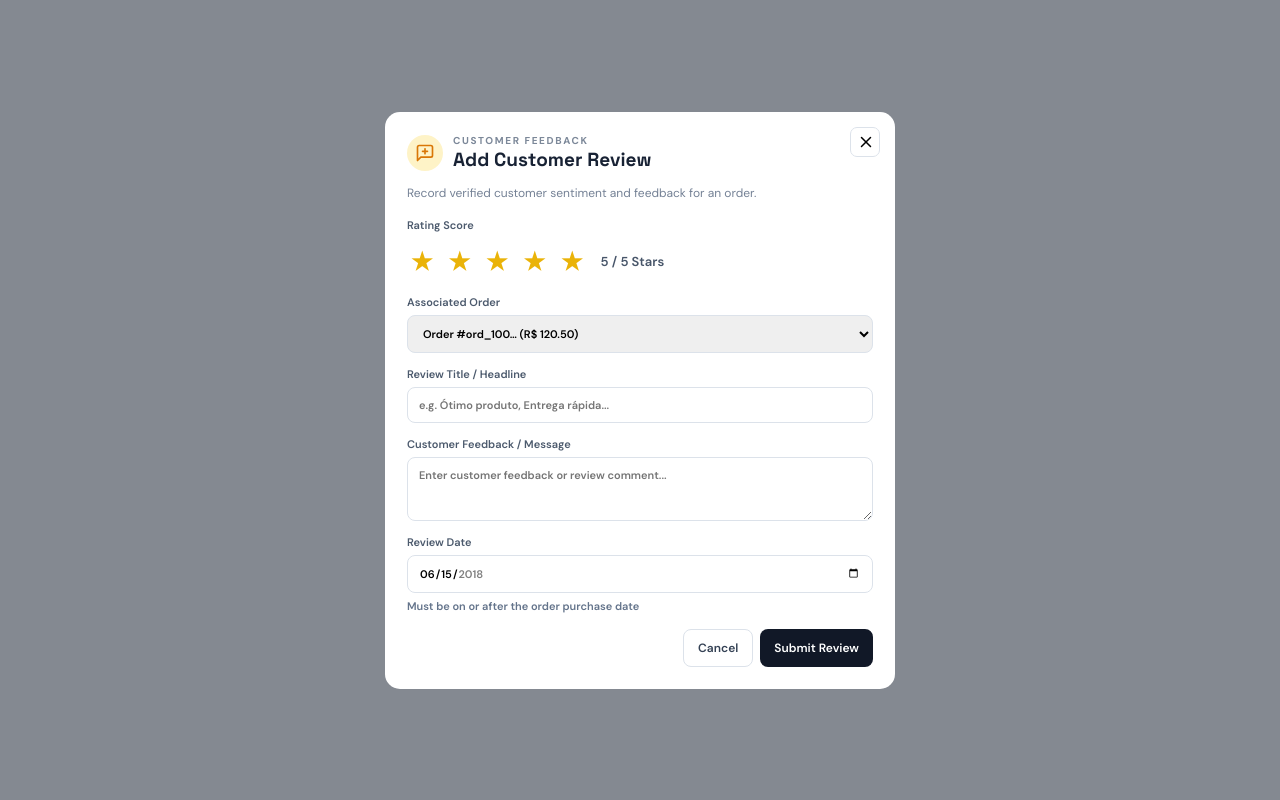
Test case: ReviewModal Component › validates review date cannot be earlier than order purchase date
The image size is (1280, 800).
ord_100 purchase date is 2018-06-10. Set review date to 2018-06-01
Type "2018-06-01" into the date field labelled "Review Date Must be on or after the order purchase date". click: (640, 574)
box: [407,554,873,592]
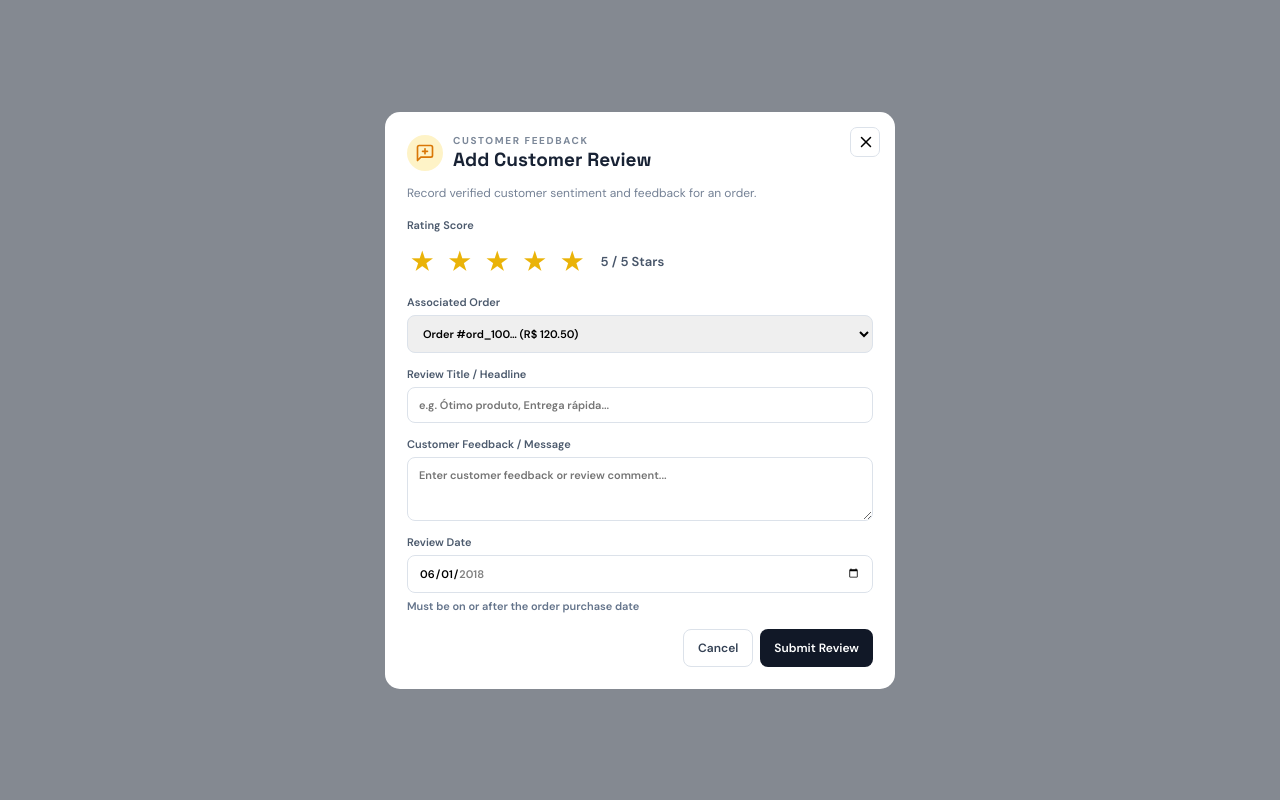
Submit the form, box [385,112,895,688]
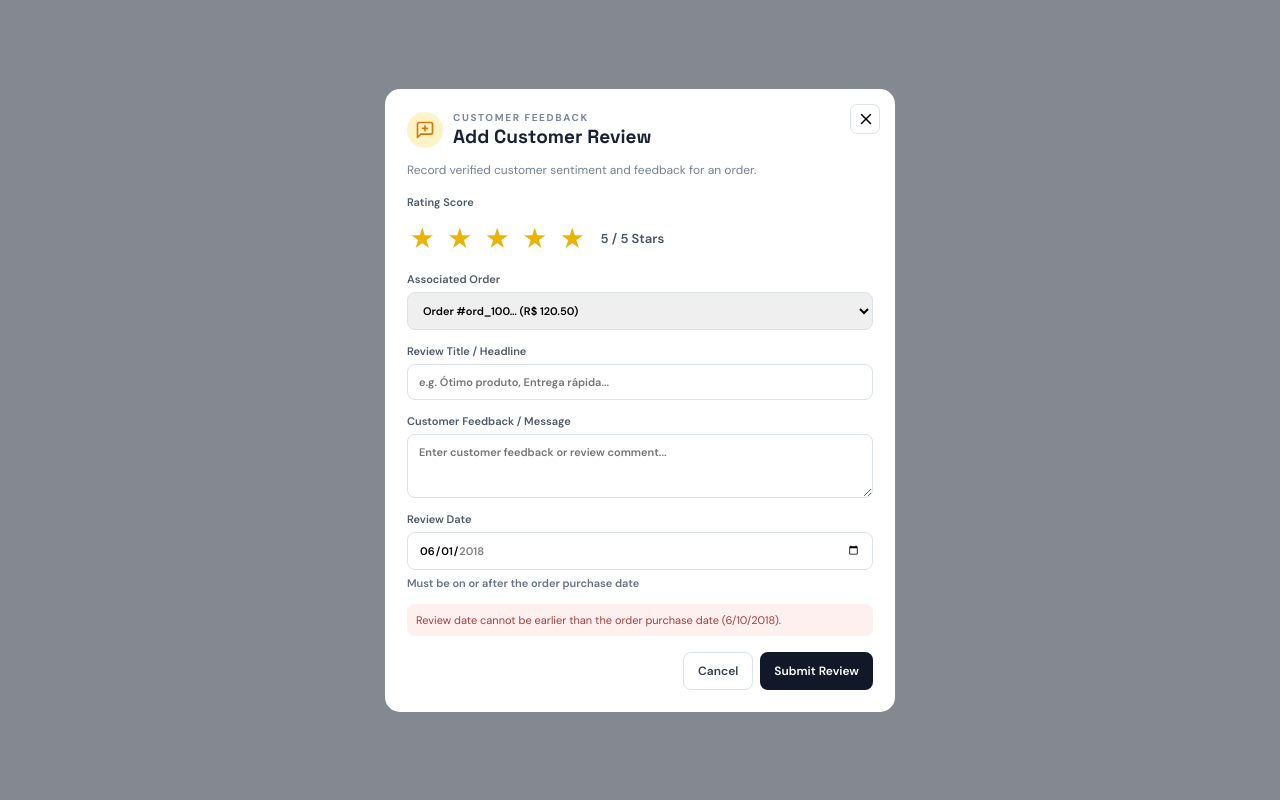
expect the text "Review date cannot be earlier than the order purchase date" is shown: met, box [416,612,781,626]
